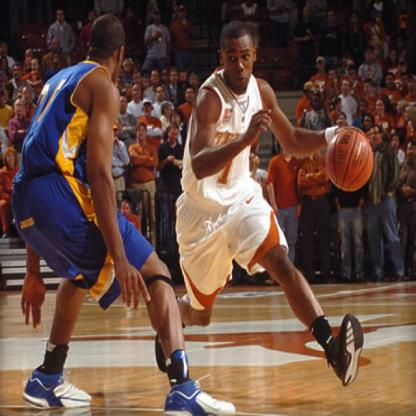basketball: (325, 130, 376, 192)
